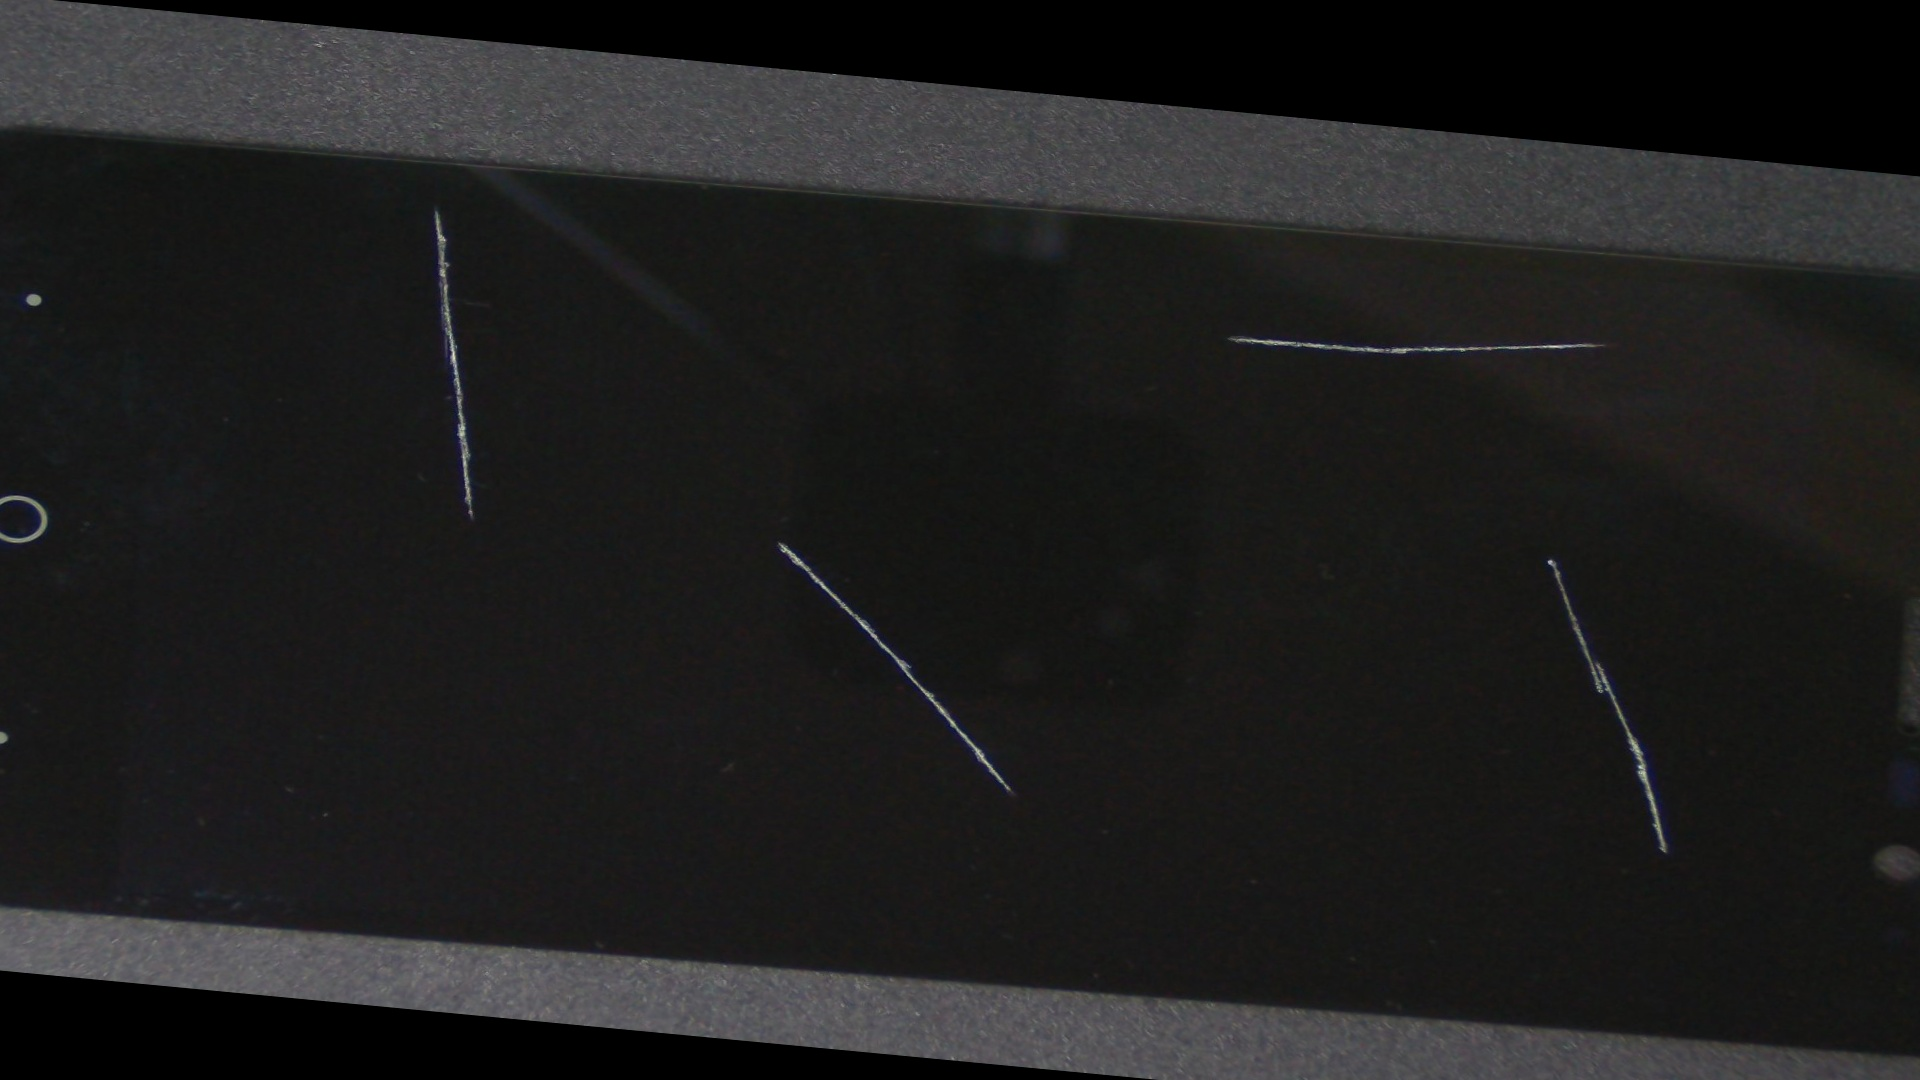oil: (694, 273, 1920, 818), (301, 264, 1254, 819), (732, 164, 1920, 489), (160, 98, 713, 320)
